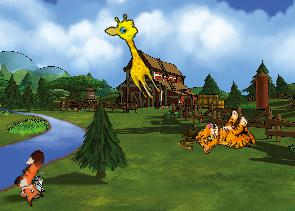fox: (5, 147, 63, 209)
giraffe: (101, 10, 172, 103)
tiger: (191, 102, 261, 170)
